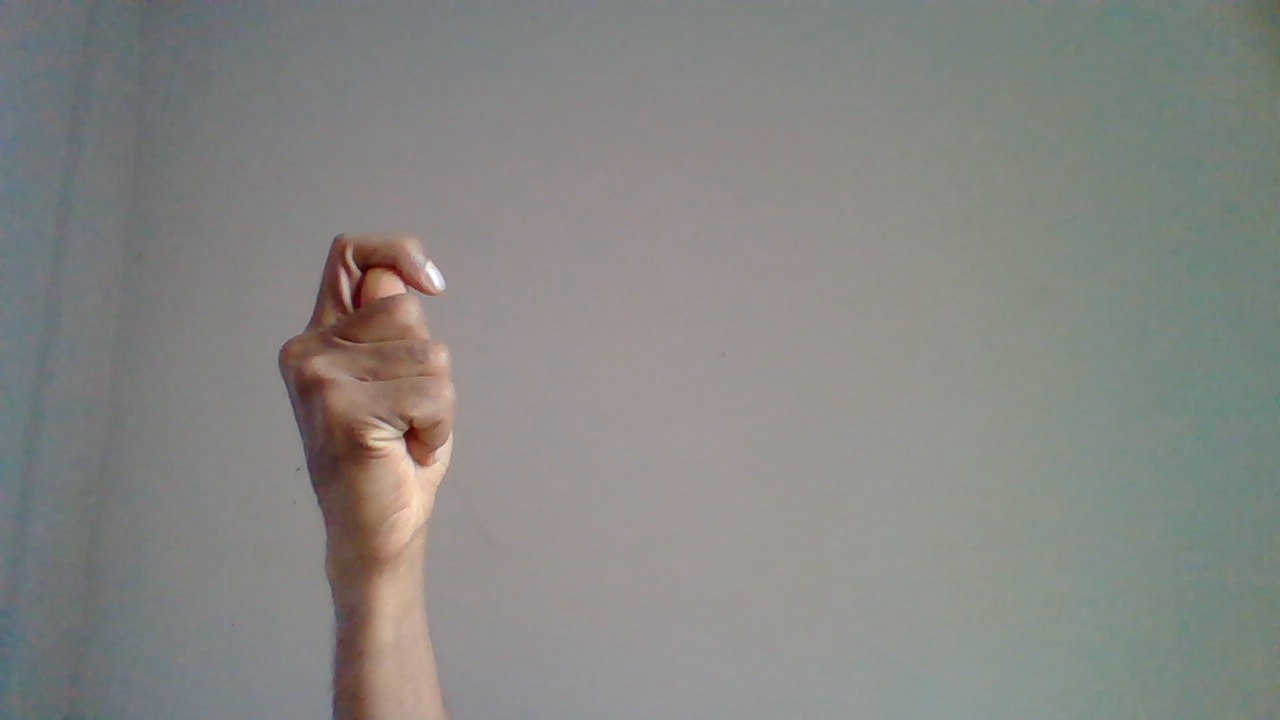che: (264, 233, 462, 682)
